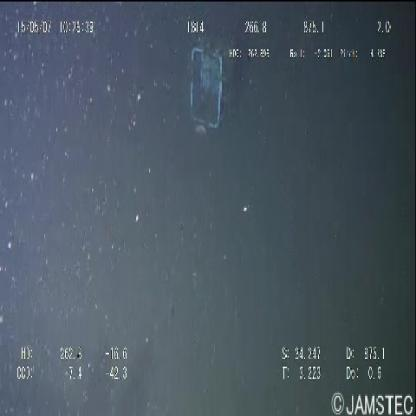Rác: (185, 37, 229, 146)
